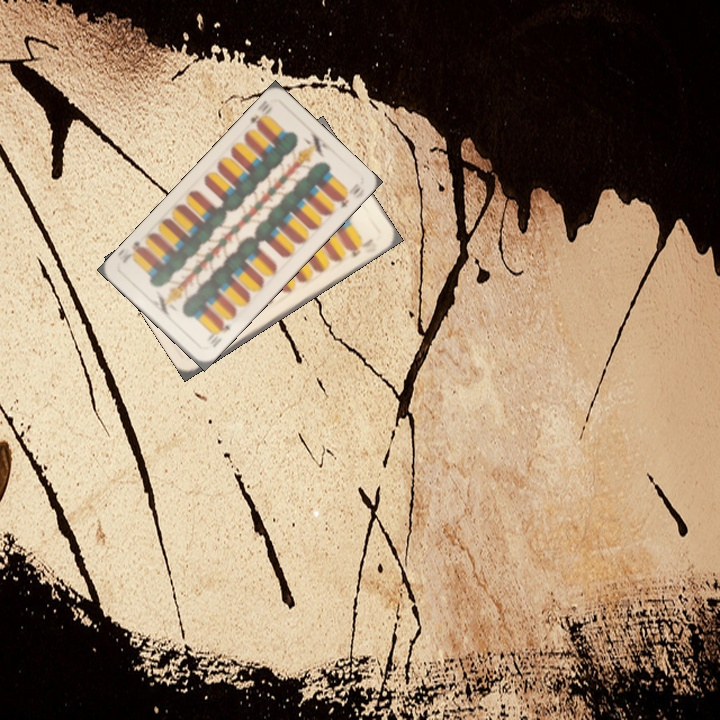E10: (243, 99, 272, 131), (208, 318, 232, 350)
